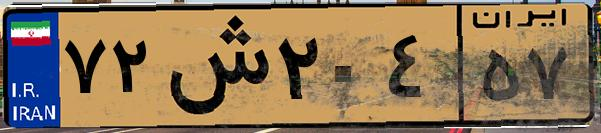0: (330, 28, 385, 110)
2: (270, 28, 330, 110), (110, 28, 158, 98)
4: (385, 28, 445, 110)
5: (475, 38, 525, 113)
7: (57, 26, 110, 100), (525, 38, 570, 115)
ش: (158, 12, 270, 120)
